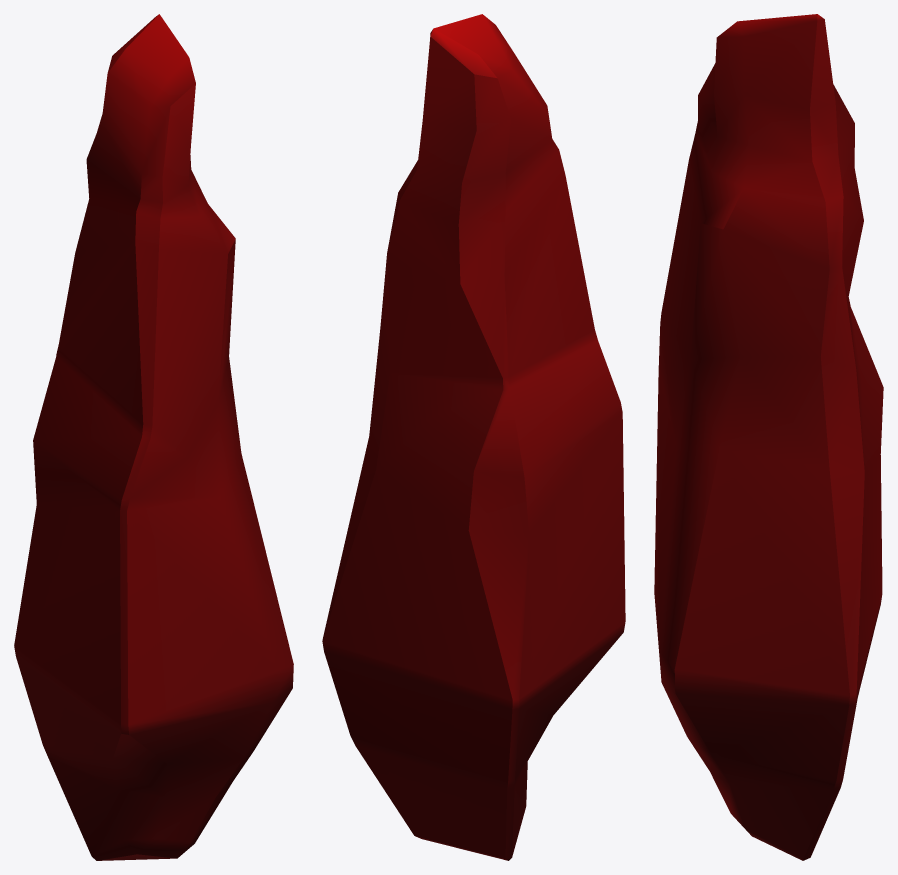
Rendered from geology-carvedstone-monolith_v7.fbx.
3 renders of one model, left to right at view 1: azimuth 30°, elevation 25°; view 2: azimuth 150°, elevation 25°; view 3: azimuth 270°, elevation 25°, orthographic. The views are drawn at different scales.
Parts seen in each view (by area): view 1: Monolith_v7; view 2: Monolith_v7; view 3: Monolith_v7.
Part boxes in pixels (x1,y1,x2,y2): Monolith_v7: [14, 14, 293, 860]; Monolith_v7: [322, 14, 625, 860]; Monolith_v7: [654, 14, 883, 860].
Size of the model in its own units: 2.17 by 8.11 by 2.01.
